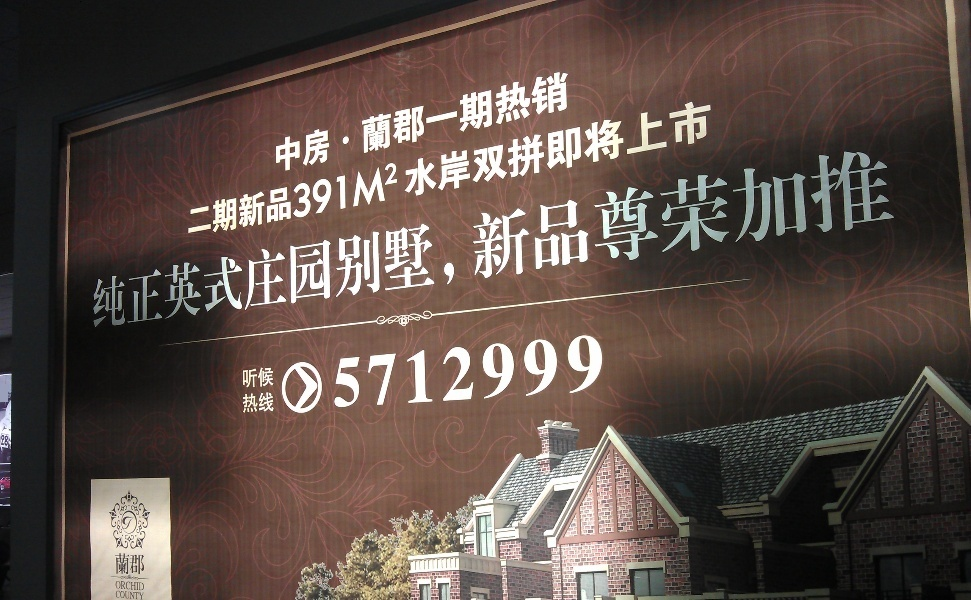text: (97, 142, 112, 343), (113, 142, 128, 343), (129, 142, 144, 343), (145, 142, 160, 343), (161, 142, 176, 343), (177, 142, 192, 343), (193, 142, 208, 343), (209, 142, 224, 343), (225, 142, 240, 343), (241, 142, 256, 343), (257, 142, 272, 343), (273, 142, 288, 343), (289, 142, 304, 343), (305, 142, 320, 343), (321, 142, 336, 343), (337, 142, 352, 343), (353, 142, 368, 343), (369, 142, 384, 343), (385, 142, 400, 343), (401, 142, 416, 343), (417, 142, 432, 343), (433, 142, 448, 343), (449, 142, 464, 343), (465, 142, 480, 343), (481, 142, 496, 343), (497, 142, 512, 343), (513, 142, 528, 343), (529, 142, 544, 343), (545, 142, 560, 343), (561, 142, 576, 343), (577, 142, 592, 343), (593, 142, 608, 343), (609, 142, 624, 343), (625, 142, 640, 343), (641, 142, 656, 343), (657, 142, 672, 343), (673, 142, 688, 343), (689, 142, 704, 343), (705, 142, 720, 343), (721, 142, 736, 343), (737, 142, 752, 343), (753, 142, 768, 343), (769, 142, 784, 343), (785, 142, 800, 343), (801, 142, 816, 343), (817, 142, 832, 343), (833, 142, 848, 343), (849, 142, 864, 343), (865, 142, 880, 343), (881, 142, 896, 343), (193, 93, 208, 243), (209, 93, 224, 243), (225, 93, 240, 243), (241, 93, 256, 243), (257, 93, 272, 243), (273, 93, 288, 243), (289, 93, 304, 243), (305, 93, 320, 243), (321, 93, 336, 243), (337, 93, 352, 243), (353, 93, 368, 243), (369, 93, 384, 243), (385, 93, 400, 243), (401, 93, 416, 243), (417, 93, 432, 243), (433, 93, 448, 243), (449, 93, 464, 243), (465, 93, 480, 243), (481, 93, 496, 243), (497, 93, 512, 243), (513, 93, 528, 243), (529, 93, 544, 243), (545, 93, 560, 243), (561, 93, 576, 243), (577, 93, 592, 243), (593, 93, 608, 243), (609, 93, 624, 243), (625, 93, 640, 243), (641, 93, 656, 243), (657, 93, 672, 243), (673, 93, 688, 243), (689, 93, 704, 243), (86, 142, 96, 343), (705, 93, 718, 243), (273, 67, 288, 178), (289, 67, 304, 178), (305, 67, 320, 178), (321, 67, 336, 178), (337, 67, 352, 178), (353, 67, 368, 178), (369, 67, 384, 178), (385, 67, 400, 178), (401, 67, 416, 178), (417, 67, 432, 178), (433, 67, 448, 178), (449, 67, 464, 178), (465, 67, 480, 178), (481, 67, 496, 178), (497, 67, 512, 178), (513, 67, 528, 178), (529, 67, 544, 178), (545, 67, 560, 178), (337, 327, 352, 411), (353, 327, 368, 411), (369, 327, 384, 411), (385, 327, 400, 411), (401, 327, 416, 411), (417, 327, 432, 411), (433, 327, 448, 411), (449, 327, 464, 411), (465, 327, 480, 411), (481, 327, 496, 411), (497, 327, 512, 411), (513, 327, 528, 411), (529, 327, 544, 411), (545, 327, 560, 411), (561, 327, 576, 411), (577, 327, 592, 411), (593, 327, 608, 411), (185, 93, 192, 243), (561, 67, 570, 178), (329, 327, 336, 411), (257, 366, 272, 390), (241, 390, 256, 414), (257, 390, 272, 414), (129, 553, 145, 575), (242, 366, 256, 390), (115, 553, 128, 575), (270, 67, 272, 178), (897, 142, 898, 343), (129, 580, 145, 591), (1, 435, 16, 446), (129, 591, 145, 600), (116, 580, 128, 591), (117, 591, 128, 600), (273, 366, 277, 390), (273, 390, 275, 414)
